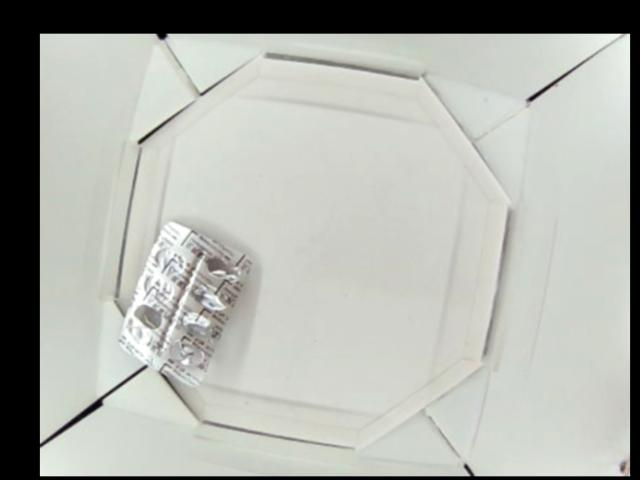Medicine: (116, 219, 251, 382)
